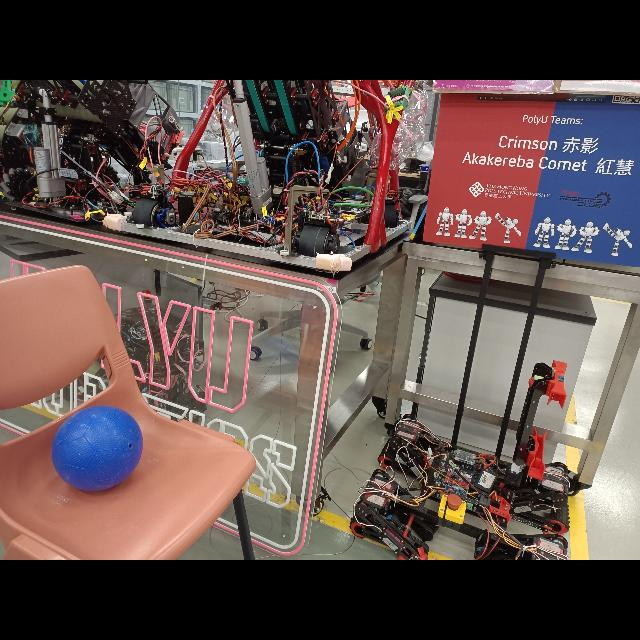B: (51, 406, 142, 492)
